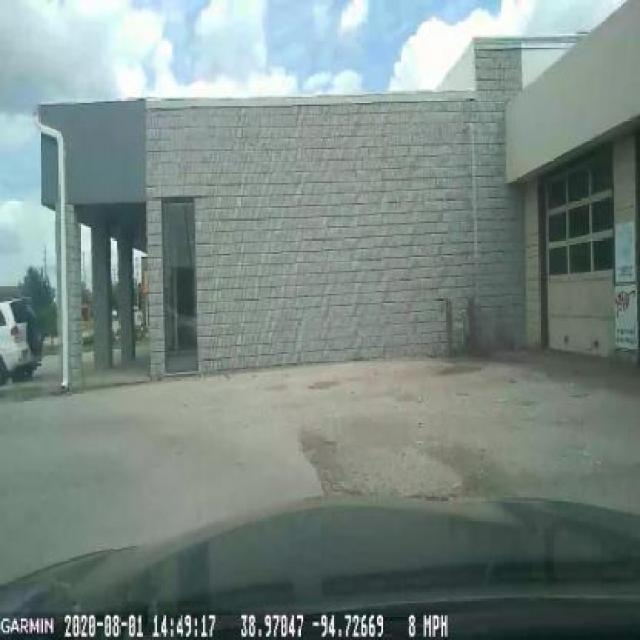Pothole: (298, 416, 354, 492)
